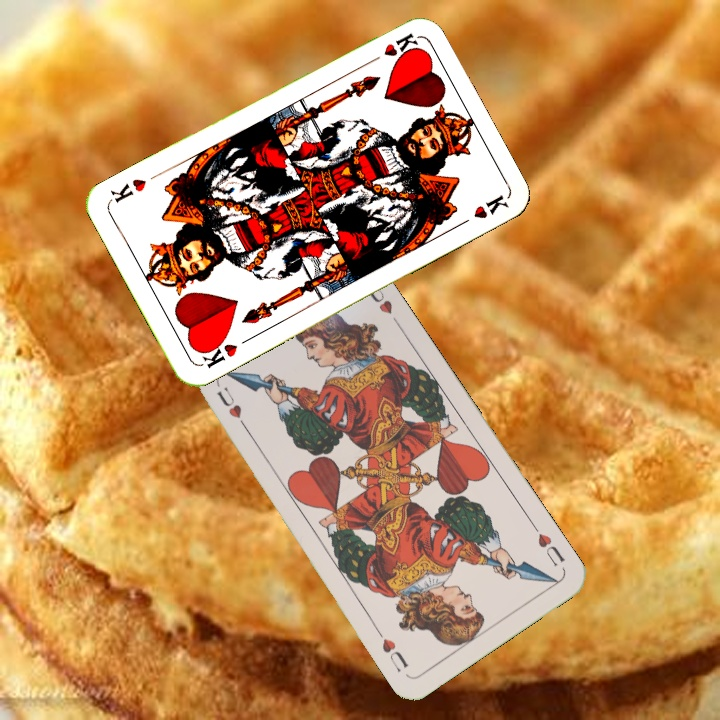HK: (364, 29, 420, 67), (195, 334, 252, 371)
HU: (212, 383, 252, 435), (528, 520, 568, 570)
